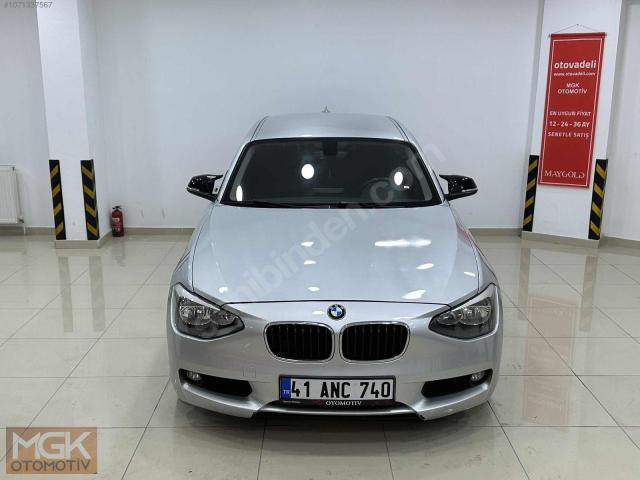plaka: (280, 377, 394, 404)
